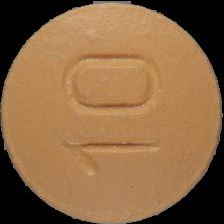43353-741: (0, 0, 224, 224)
